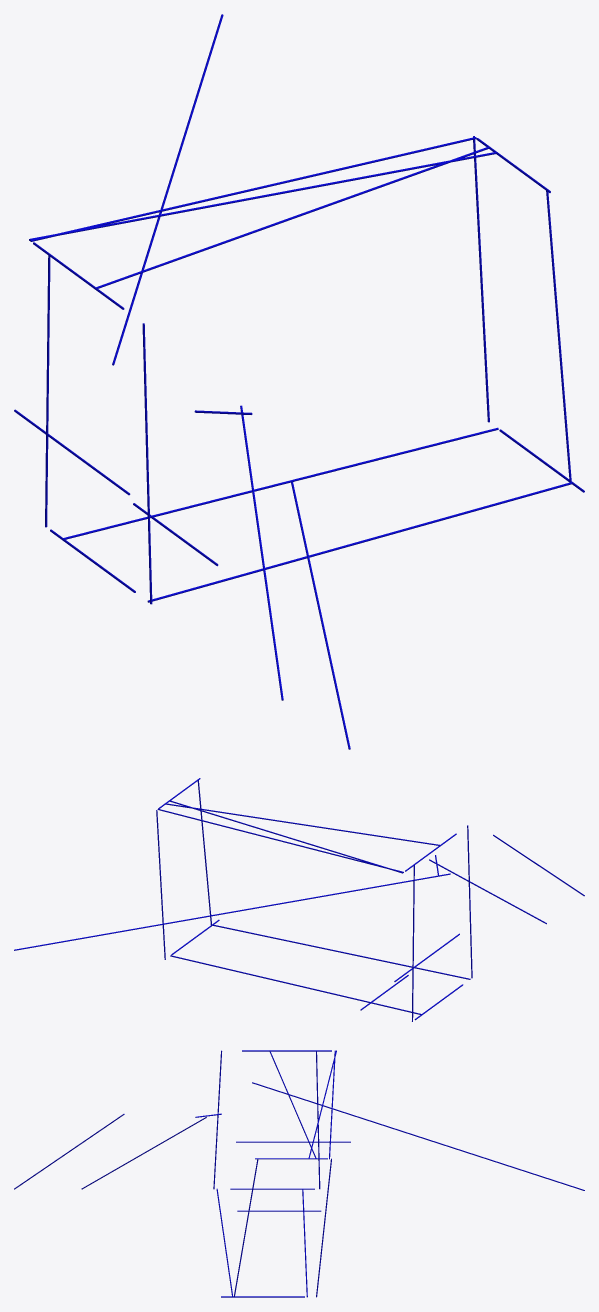
The model's file is corrected_3d_strokes.glb.
3 views of the same model, one above another, from view 1: azimuth 30°, elevation 25°; view 2: azimuth 150°, elevation 25°; view 3: azimuth 270°, elevation 25° (orthographic). The views are drawn at different scales.
Parts seen in each view (by area): view 1: world; view 2: world; view 3: world.
Part boxes in pixels (x1=…): world: x1=14, y1=14, x2=584, y2=749; world: x1=14, y1=778, x2=584, y2=1021; world: x1=14, y1=1050, x2=584, y2=1297.
Size of the model in its own units: 8.63 by 5.17 by 19.21.
